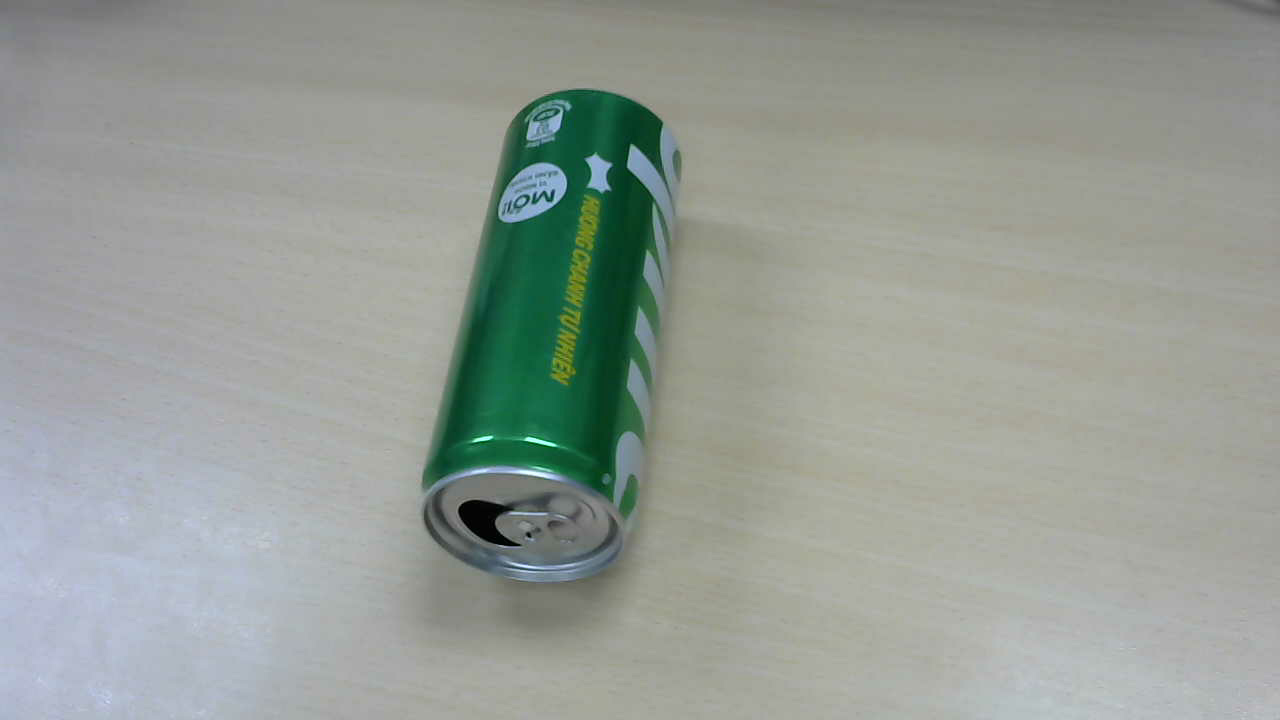Sprite: (429, 93, 684, 580)
